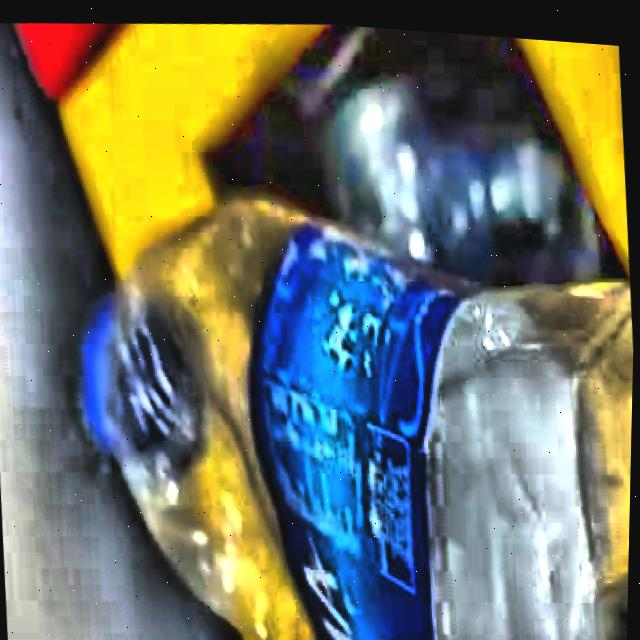plastic: (89, 189, 635, 640)
